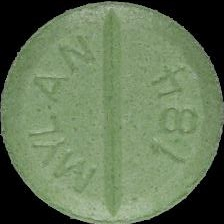0615-2563: (0, 0, 224, 224)
